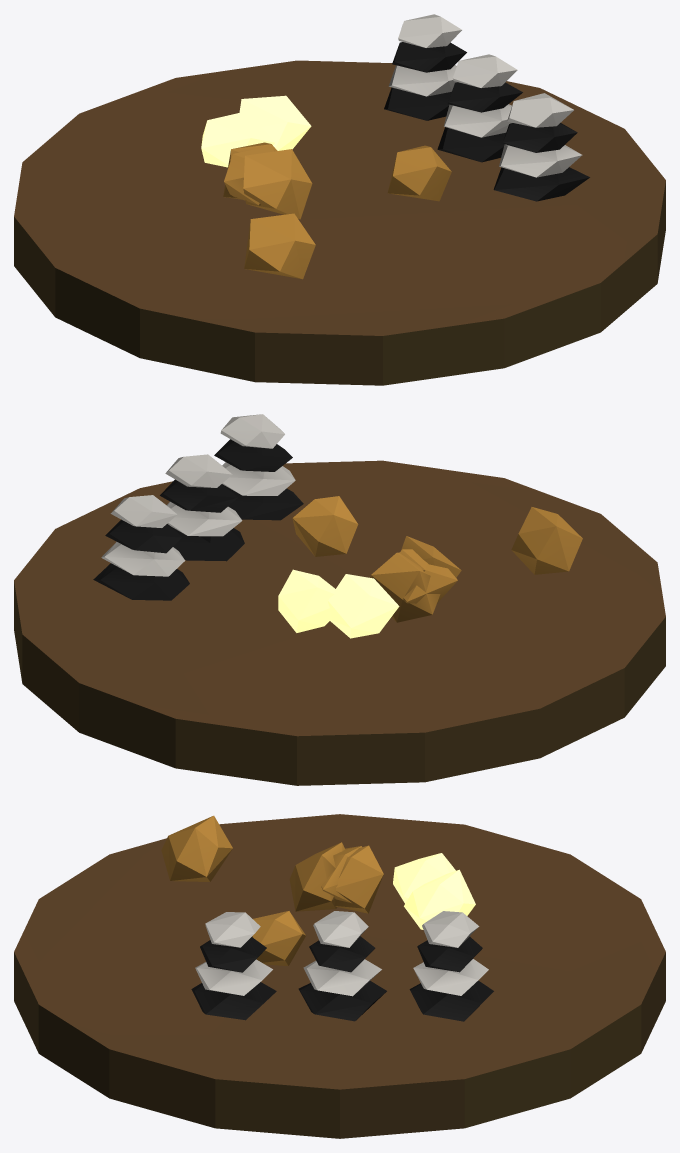
3 views of the same model, one above another, from view 1: azimuth 30°, elevation 25°; view 2: azimuth 150°, elevation 25°; view 3: azimuth 270°, elevation 25° (orthographic).
Visible parts, largest first — view 1: base; view 2: base; view 3: base.
Part boxes in pixels (bbox=[...]): base: bbox=[14, 14, 665, 385]; base: bbox=[14, 414, 665, 785]; base: bbox=[14, 814, 665, 1138].
Size of the model in its own units: 0.48 by 0.1235 by 0.48.
